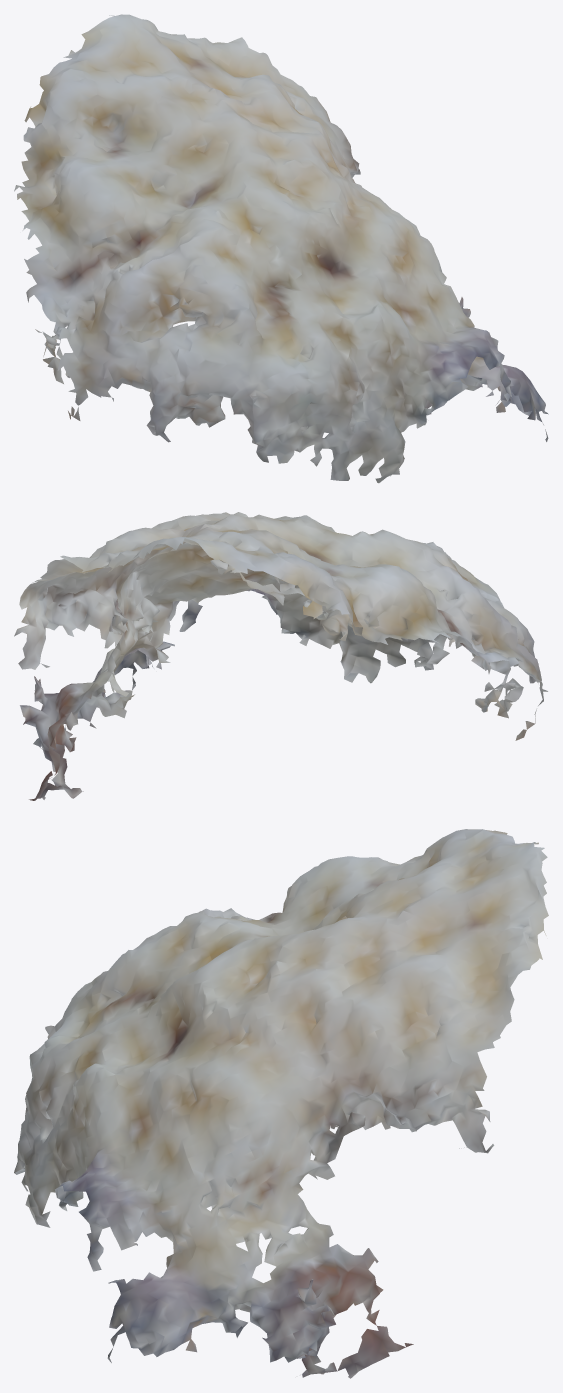
The model's file is dolphin.glb.
3 renders of one model, top to bottom at view 1: azimuth 30°, elevation 25°; view 2: azimuth 150°, elevation 25°; view 3: azimuth 270°, elevation 25°, orthographic. The views are drawn at different scales.
Parts seen in each view (by area): view 1: dolphin; view 2: dolphin; view 3: dolphin.
Part boxes in pixels (x1,y1,x2,y2): dolphin: (14,14,548,483); dolphin: (14,512,547,800); dolphin: (14,829,548,1378).
Size of the model in its own units: 0.1292 by 0.1014 by 0.117.
